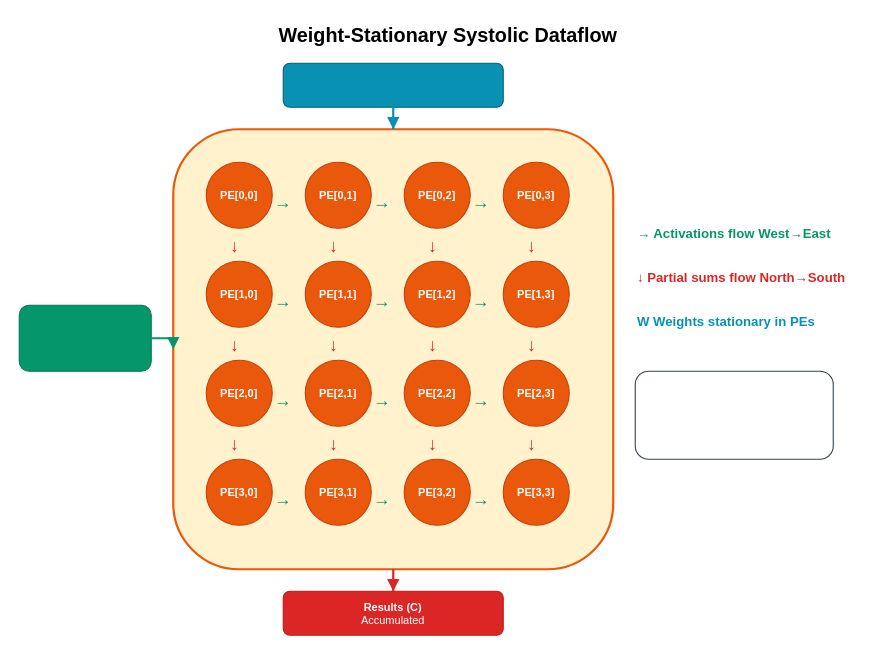
Image size: 875x655. Some labels were removed from this diagram. The box of each missing label's shape, as (x1, y1, x2, y2) in pixels:
Activations (A) Streaming: (18, 304, 151, 371)
Timing • Weight load: N cycles • Compute: 2N-1 cycles • Total: 3N-1 cycles/tile: (634, 370, 833, 459)
Weights (W) Pre-loaded: (282, 62, 503, 107)
